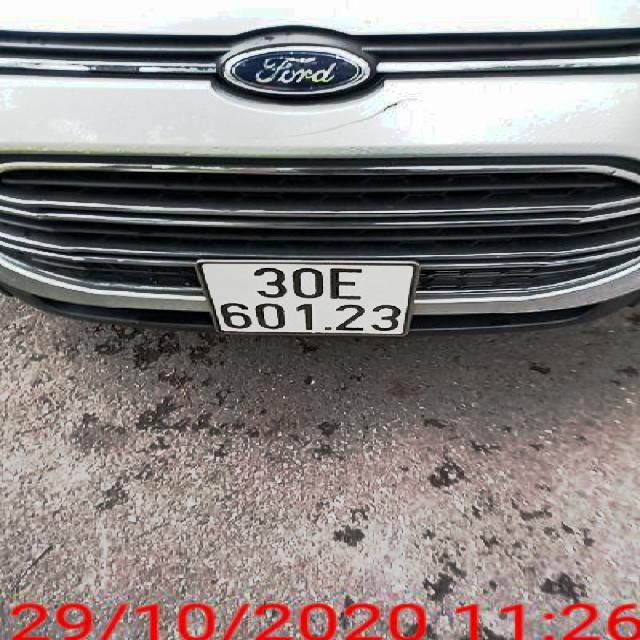license_plate: (199, 265, 416, 337)
